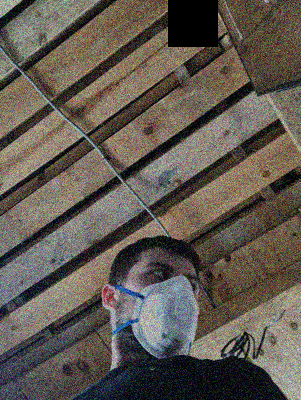with_mask: (136, 259, 200, 359)
